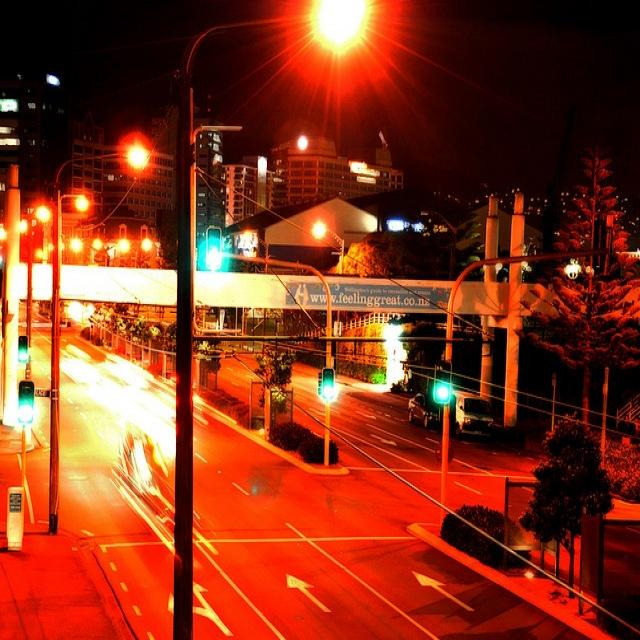car: (406, 389, 442, 426)
pole: (166, 76, 199, 639), (45, 179, 63, 536)
truck: (451, 388, 493, 440)
